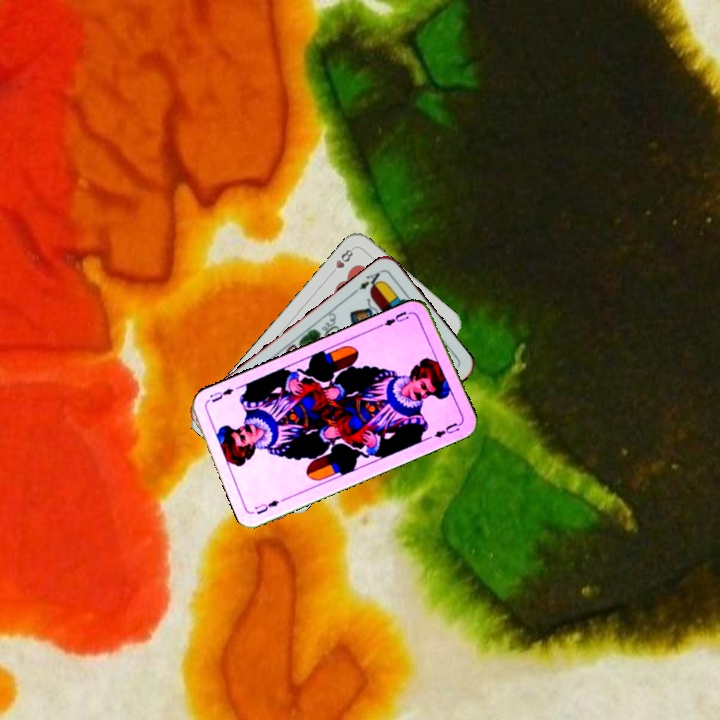EA: (350, 267, 385, 296)
EU: (376, 307, 411, 330), (250, 496, 282, 517)
H8: (326, 244, 356, 278)
